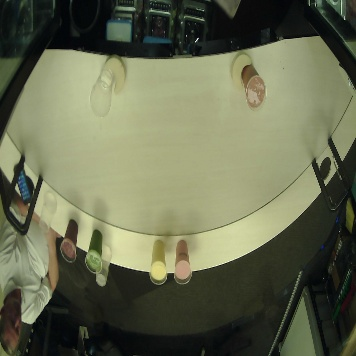empty_cup: (87, 63, 115, 122), (34, 179, 62, 238), (98, 242, 112, 288)
full_cup: (239, 61, 269, 117), (170, 234, 197, 288), (145, 238, 171, 289), (84, 228, 106, 273), (60, 219, 82, 264)
